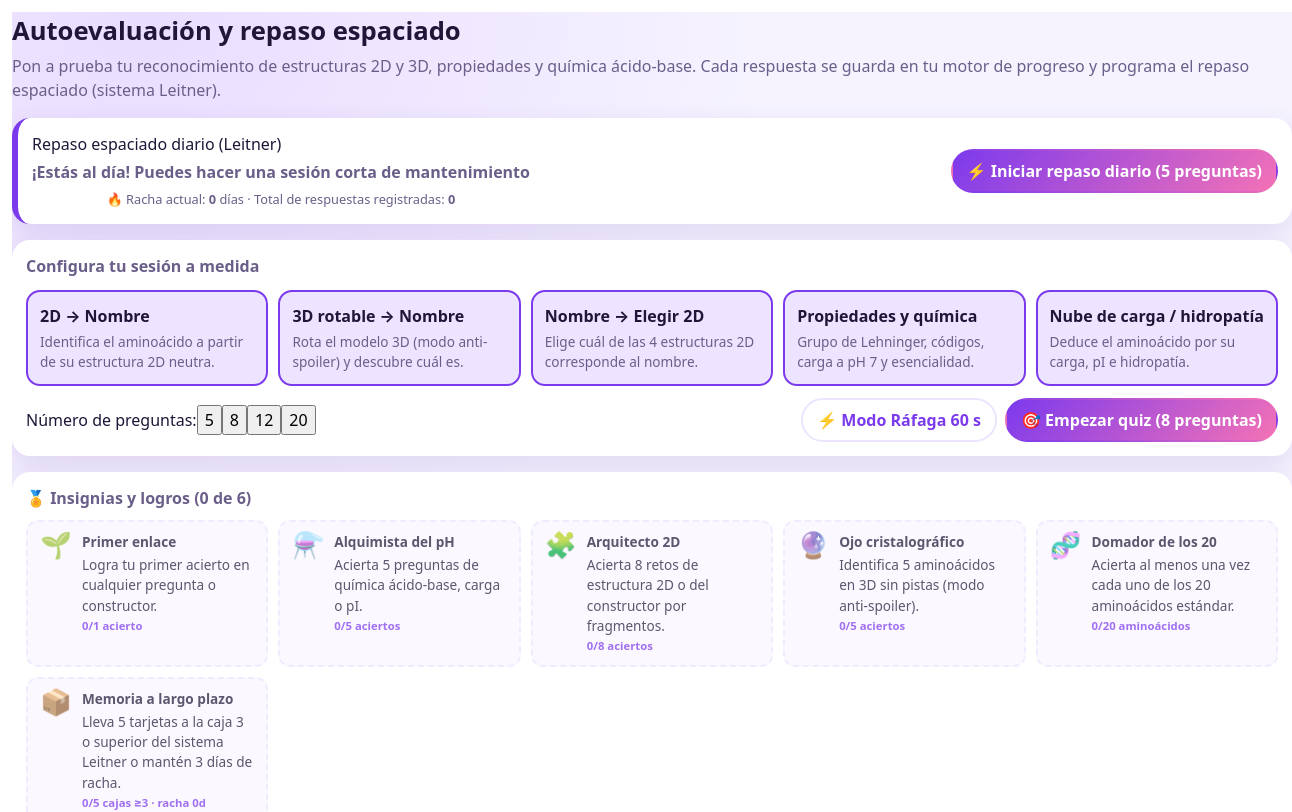
it: QuizTab › permite iniciar una sesión, responder con retroalimentación y registrar en el motor de progreso
Step 1. Click the button "5" → (209, 420), box [197,405,222,435]
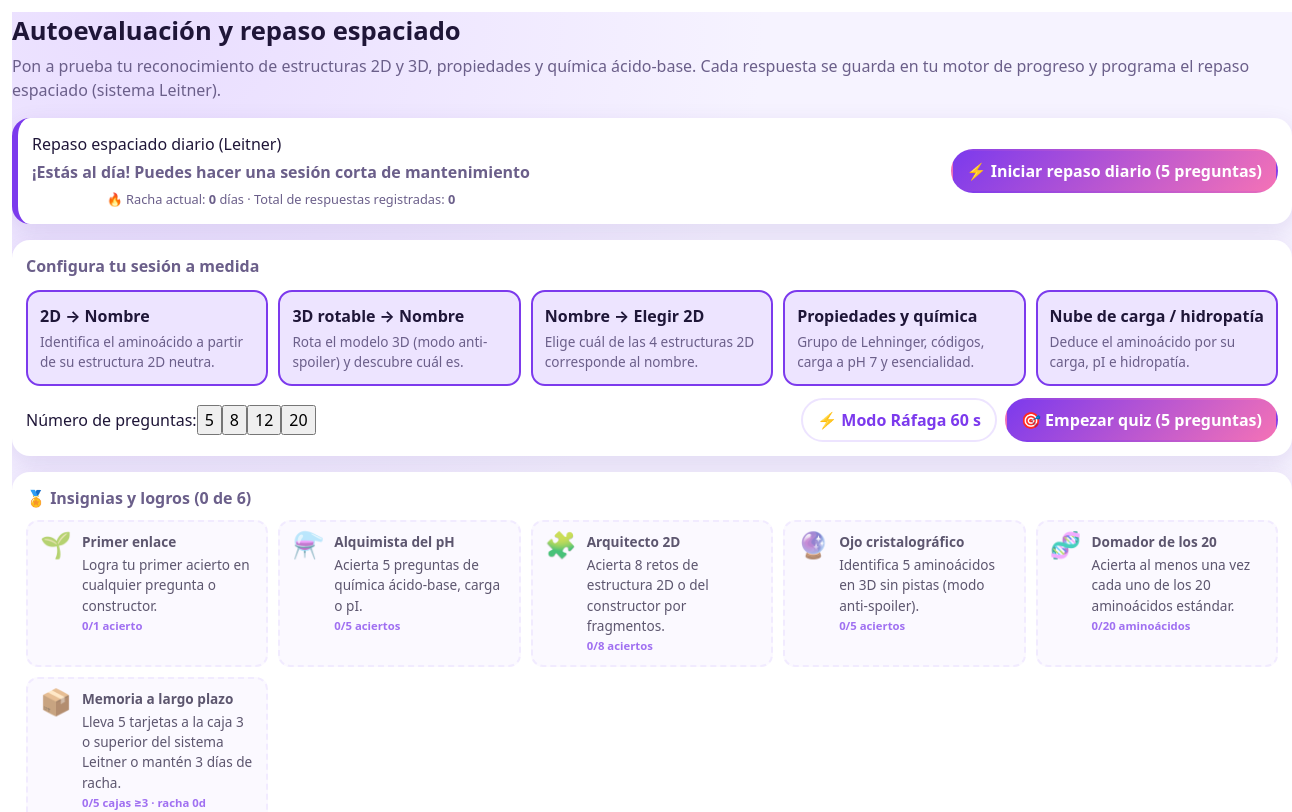
Step 2. Click the button "🎯 Empezar quiz (5 preguntas)" → (1142, 420), box [1005,398,1278,442]
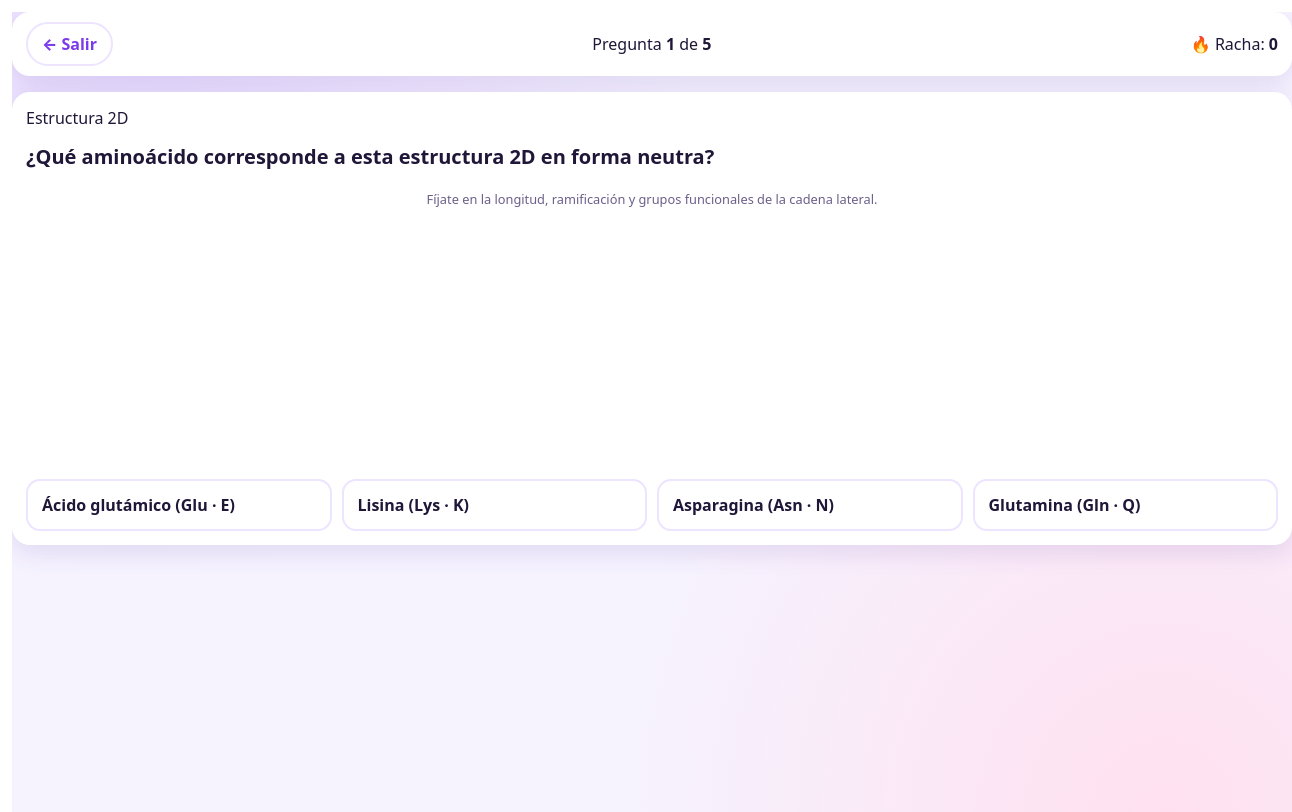
Expected: the text "Pregunta 1 de 5" is shown, [592,32,711,56]
Step 3. Click the button "Ácido glutámico (Glu · E)" → (179, 505), box [26,479,332,531]
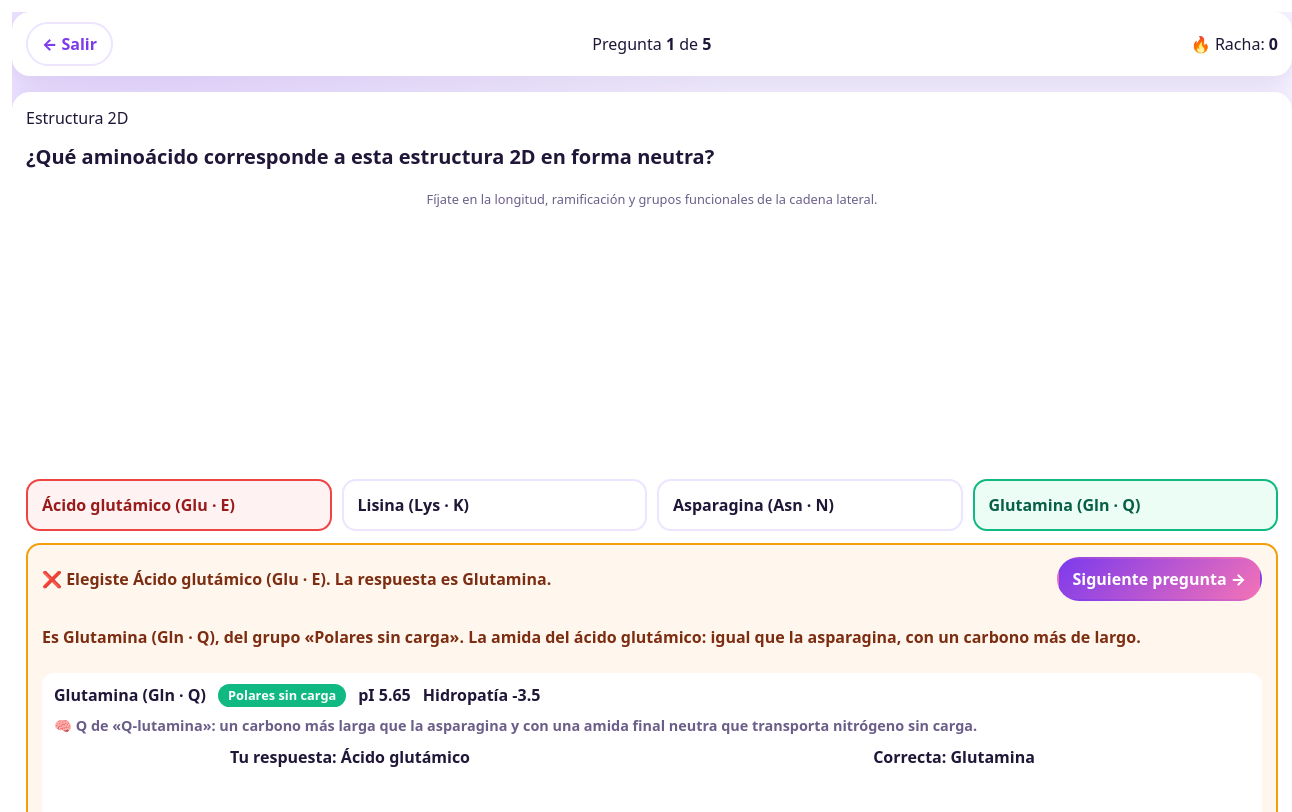
Expected: the button "Siguiente pregunta →" is shown, [1056,557,1262,601]
